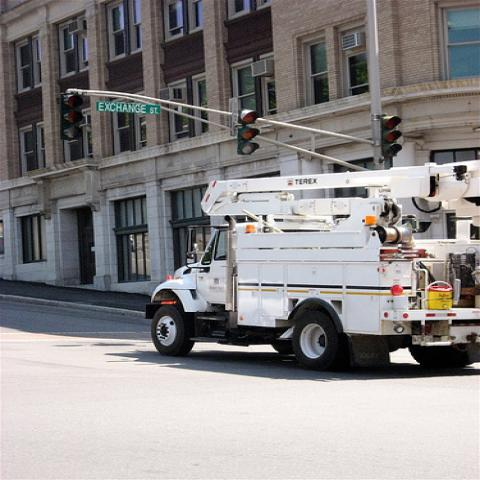truck: (145, 159, 479, 371)
